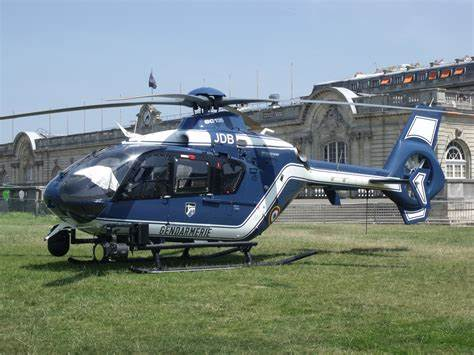Aeronef_militaire: (1, 68, 463, 277)
